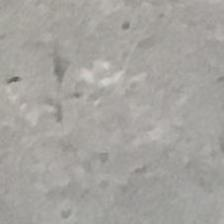Non_Crack: (84, 3, 218, 191)
